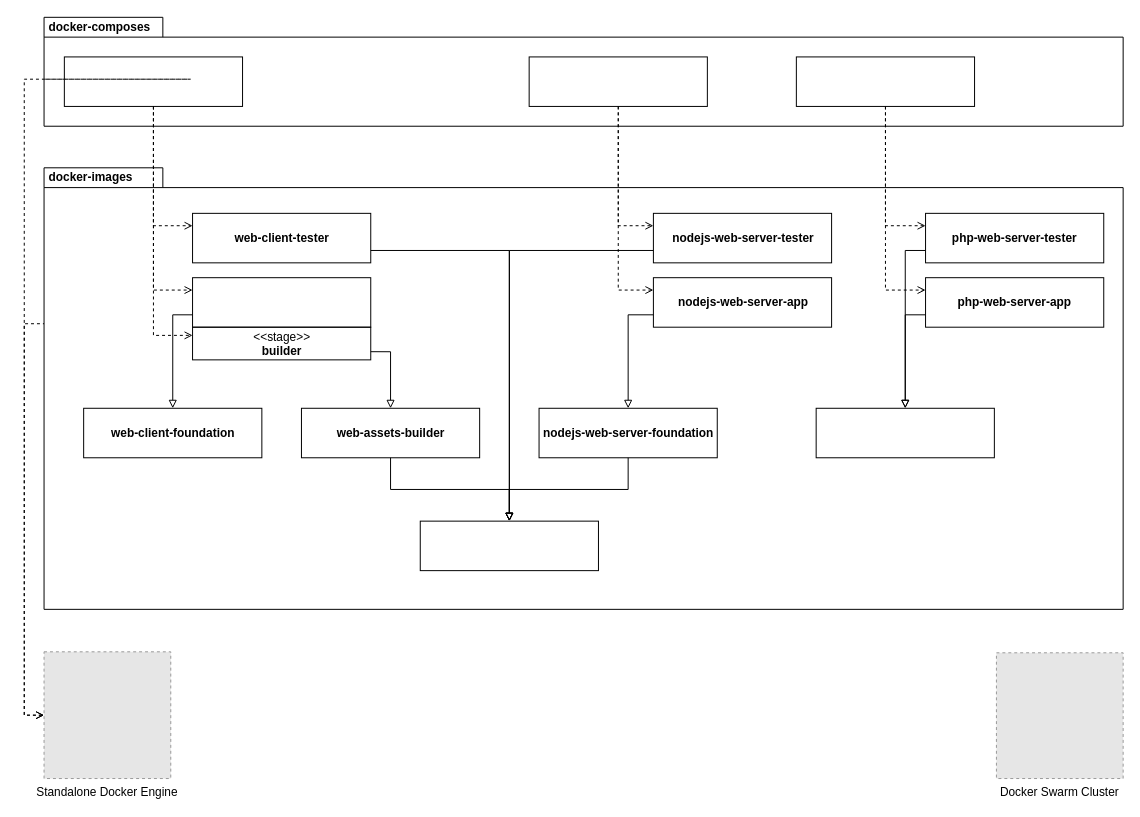
Some shapes in this 1140 by 817 pixel diagram are drawn without their labels. Grey dashed boxes stand in for pictures. The shapes that lost their labels are listed below. From the top down, each one's centre as x and y in pixels, then its label:
(x=153, y=81): web-client
(x=617, y=81): nodejs-web-server
(x=885, y=81): php-web-server
(x=281, y=302): web-client-app
(x=904, y=432): php-web-server-foundation
(x=508, y=545): nodejs-foundation
